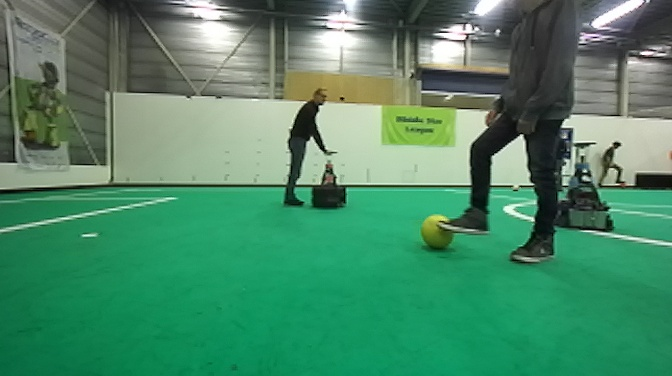ball: (418, 212, 455, 253), (509, 182, 521, 191), (619, 182, 629, 191)
human: (432, 1, 580, 267), (281, 85, 338, 209), (597, 140, 626, 190)
robot: (559, 141, 616, 236), (309, 150, 349, 212)
